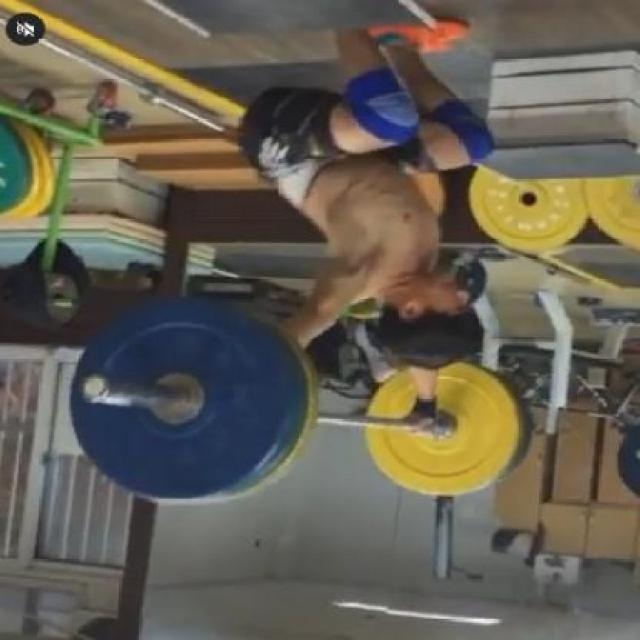Barbell: (78, 372, 114, 406)
